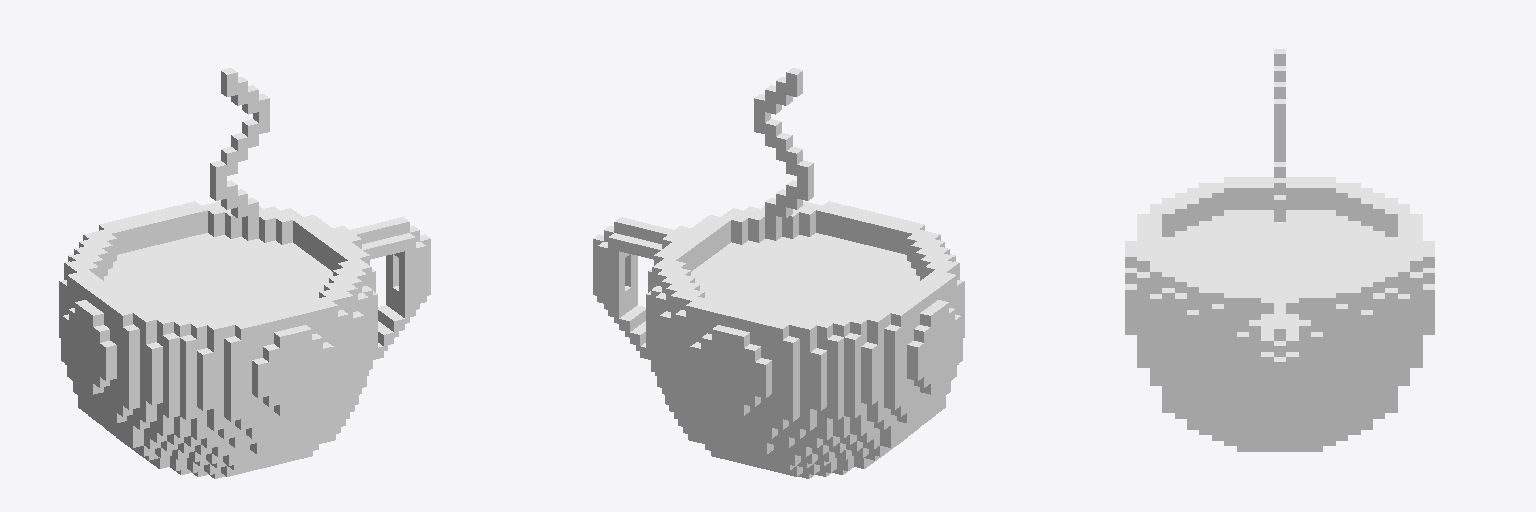
The model's file is Xicara.obj.
The picture shows the model from 3 angles: view 1: azimuth 30°, elevation 25°; view 2: azimuth 150°, elevation 25°; view 3: azimuth 270°, elevation 25°; orthographic projection.
Bounding box in the file's own units: 32 × 34 × 25.